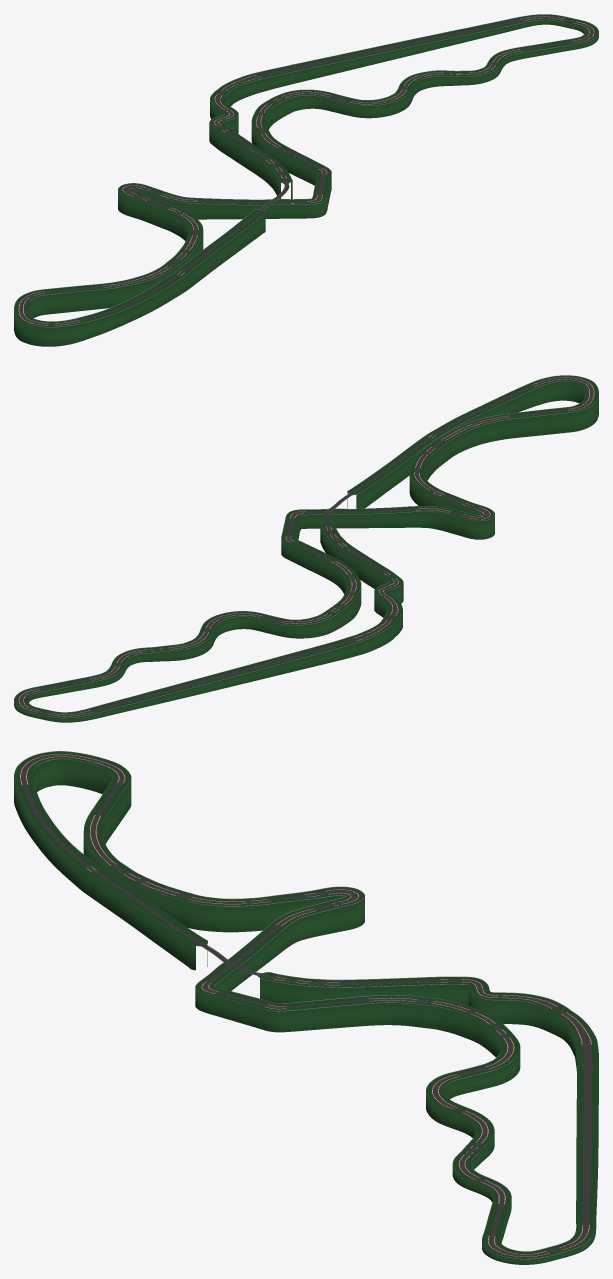
Rendered from suzuka_circuit.glb.
3 renders of one model, top to bottom at view 1: azimuth 30°, elevation 25°; view 2: azimuth 210°, elevation 25°; view 3: azimuth 270°, elevation 25°, orthographic. The views are drawn at different scales.
Visible parts, largest first — view 1: Suzuka_Grass_Runoff_Skirt, Suzuka_Asphalt, Suzuka_Armco_Barriers, Suzuka_Kerbs; view 2: Suzuka_Grass_Runoff_Skirt, Suzuka_Asphalt, Suzuka_Armco_Barriers, Suzuka_Kerbs; view 3: Suzuka_Grass_Runoff_Skirt, Suzuka_Asphalt, Suzuka_Armco_Barriers, Suzuka_Kerbs.
Part boxes in pixels (left/top/right/bottom): Suzuka_Grass_Runoff_Skirt: left=14, top=14, right=598, bottom=346; Suzuka_Asphalt: left=19, top=16, right=593, bottom=325; Suzuka_Armco_Barriers: left=14, top=14, right=598, bottom=327; Suzuka_Kerbs: left=18, top=16, right=594, bottom=325; Suzuka_Grass_Runoff_Skirt: left=14, top=375, right=598, bottom=722; Suzuka_Asphalt: left=19, top=377, right=593, bottom=716; Suzuka_Armco_Barriers: left=15, top=375, right=597, bottom=718; Suzuka_Kerbs: left=18, top=377, right=594, bottom=716; Suzuka_Grass_Runoff_Skirt: left=14, top=751, right=598, bottom=1264; Suzuka_Asphalt: left=21, top=754, right=592, bottom=1256; Suzuka_Armco_Barriers: left=15, top=751, right=598, bottom=1259; Suzuka_Kerbs: left=20, top=754, right=591, bottom=1256.
Bounding box in the file's own units: 2033 × 51.31 × 1030.
5 materials, 5 textured.
